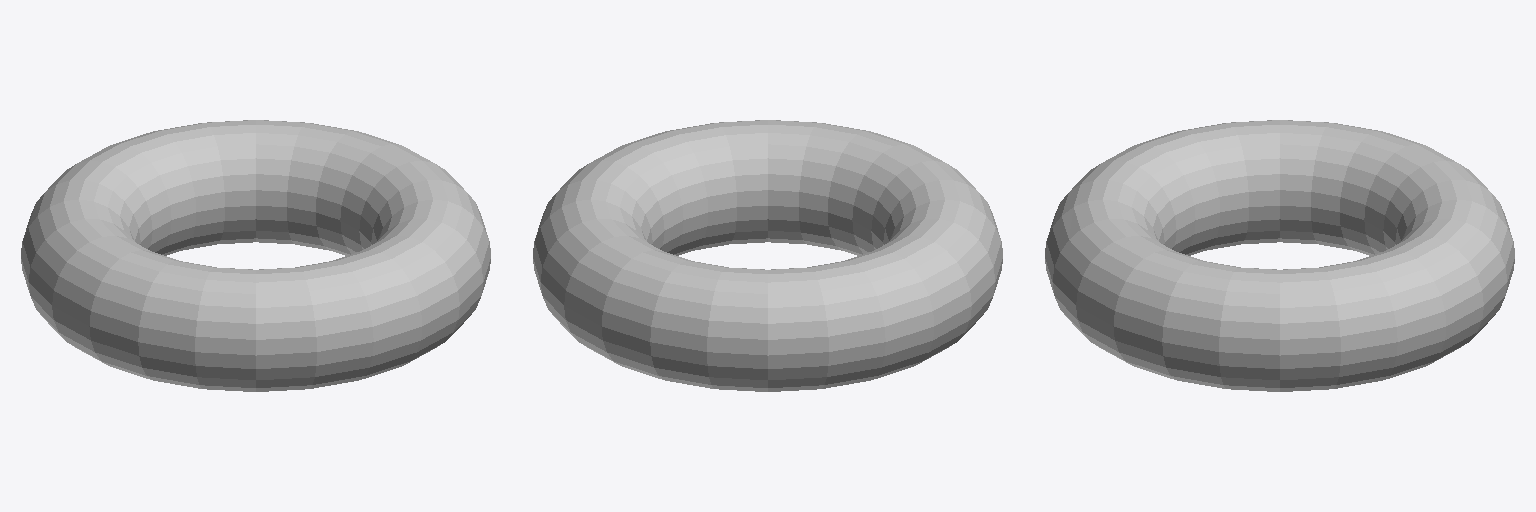
The model's file is hover.obj.
3 views of the same model, side by side, from view 1: azimuth 30°, elevation 25°; view 2: azimuth 150°, elevation 25°; view 3: azimuth 270°, elevation 25° (orthographic).
Parts seen in each view (by area): view 1: Mesh1 Model; view 2: Mesh1 Model; view 3: Mesh1 Model.
Boxes of the visible parts, <box> form: Mesh1 Model: <box>21,120,490,391</box>; Mesh1 Model: <box>533,120,1002,391</box>; Mesh1 Model: <box>1045,120,1514,391</box>.
Bounding box in the file's own units: 5.31 × 1.41 × 5.31.